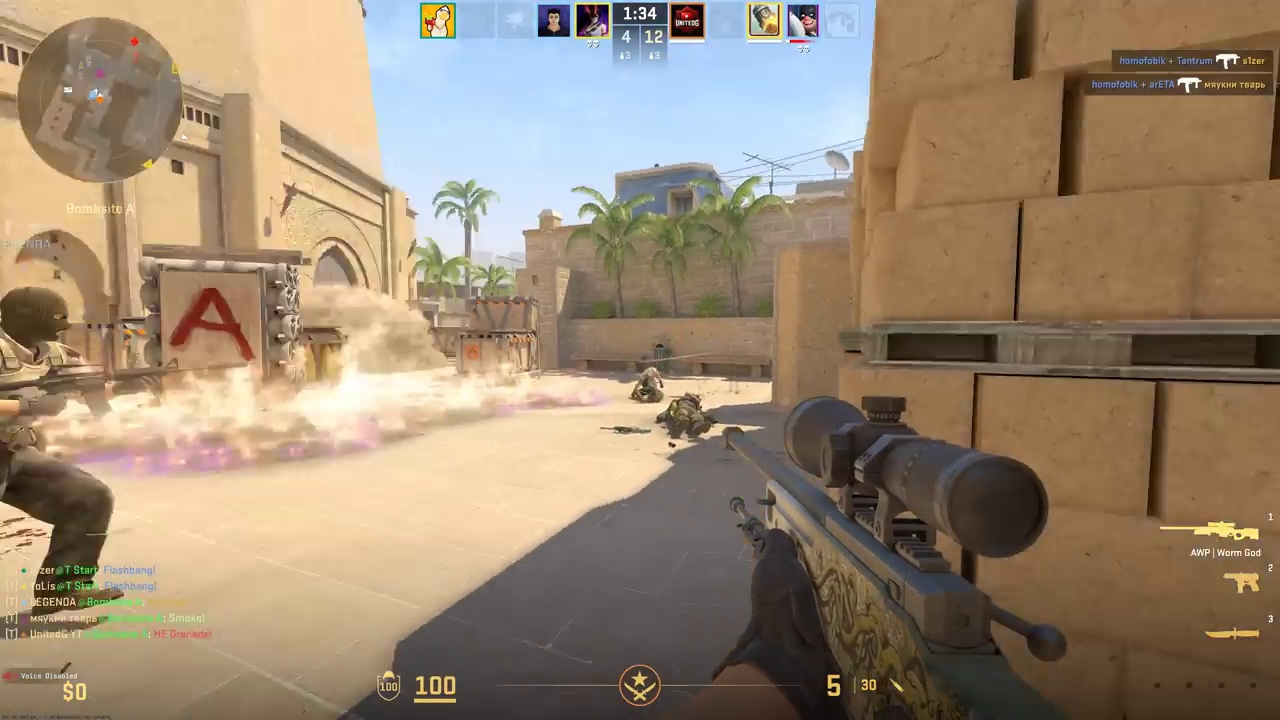Terrorist: (0, 287, 117, 612)
